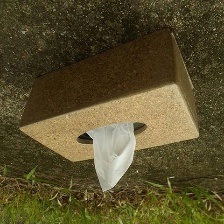tissue: (82, 119, 141, 195)
